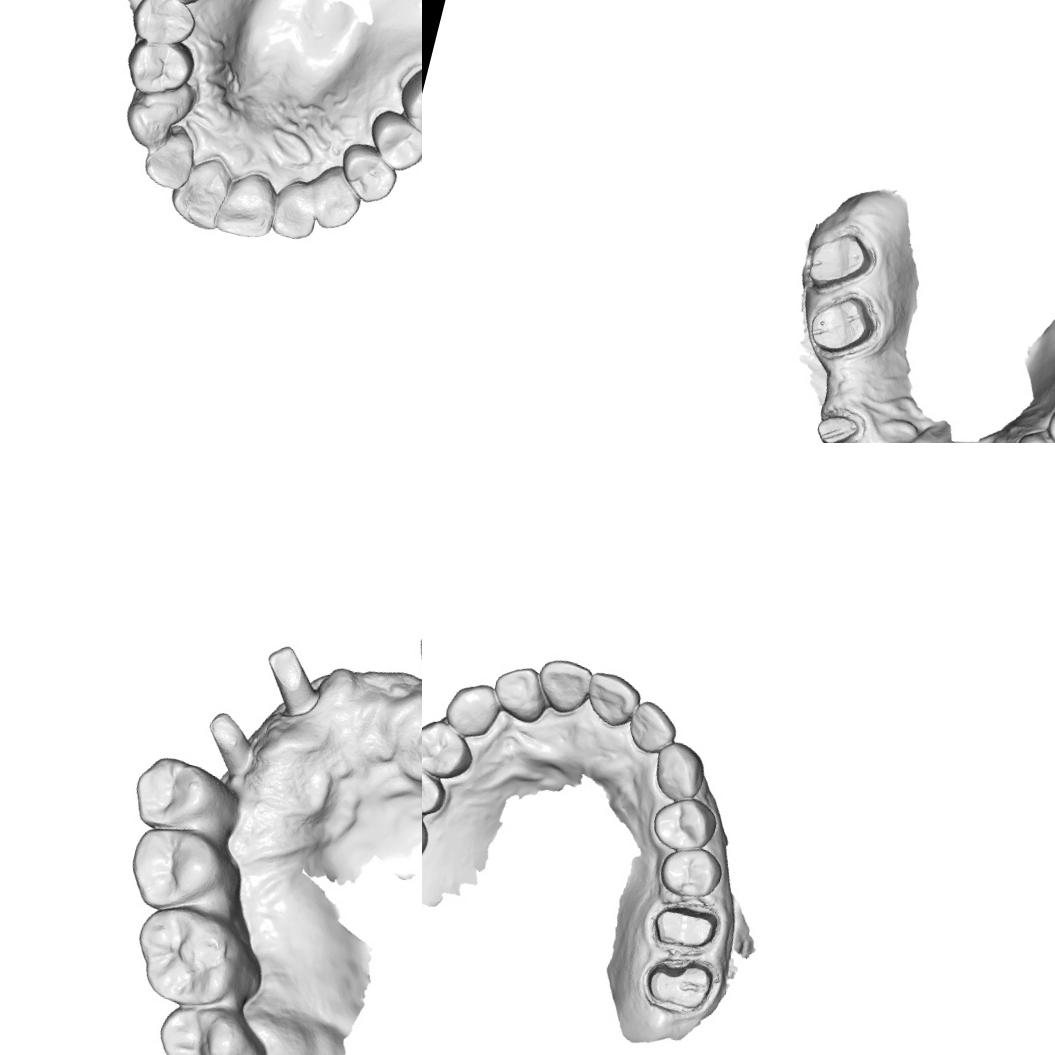abutment: (250, 639, 334, 726), (196, 704, 270, 783), (399, 627, 422, 718)
canine: (645, 736, 711, 806), (118, 87, 184, 156), (438, 674, 504, 743), (306, 164, 367, 236)
crown: (798, 222, 879, 300), (802, 288, 880, 364), (638, 948, 717, 1017), (644, 894, 724, 958), (811, 406, 863, 443)
incisor: (165, 150, 233, 234), (212, 164, 283, 244), (485, 658, 552, 726), (578, 665, 646, 732), (530, 652, 597, 719), (265, 175, 325, 245), (140, 127, 198, 194), (622, 696, 683, 759)
molar: (122, 896, 260, 1019), (142, 994, 267, 1055), (389, 60, 422, 149)
premolar: (118, 816, 232, 922), (124, 747, 232, 842), (118, 30, 198, 104), (646, 788, 722, 859), (331, 138, 404, 209), (654, 838, 728, 906), (360, 105, 422, 176), (422, 712, 479, 785), (125, 0, 201, 49), (422, 755, 453, 820)
